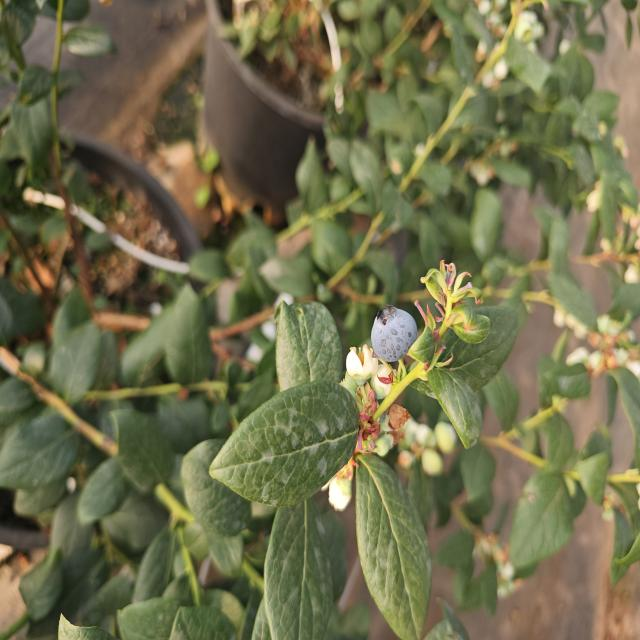ripe: (358, 301, 420, 358)
